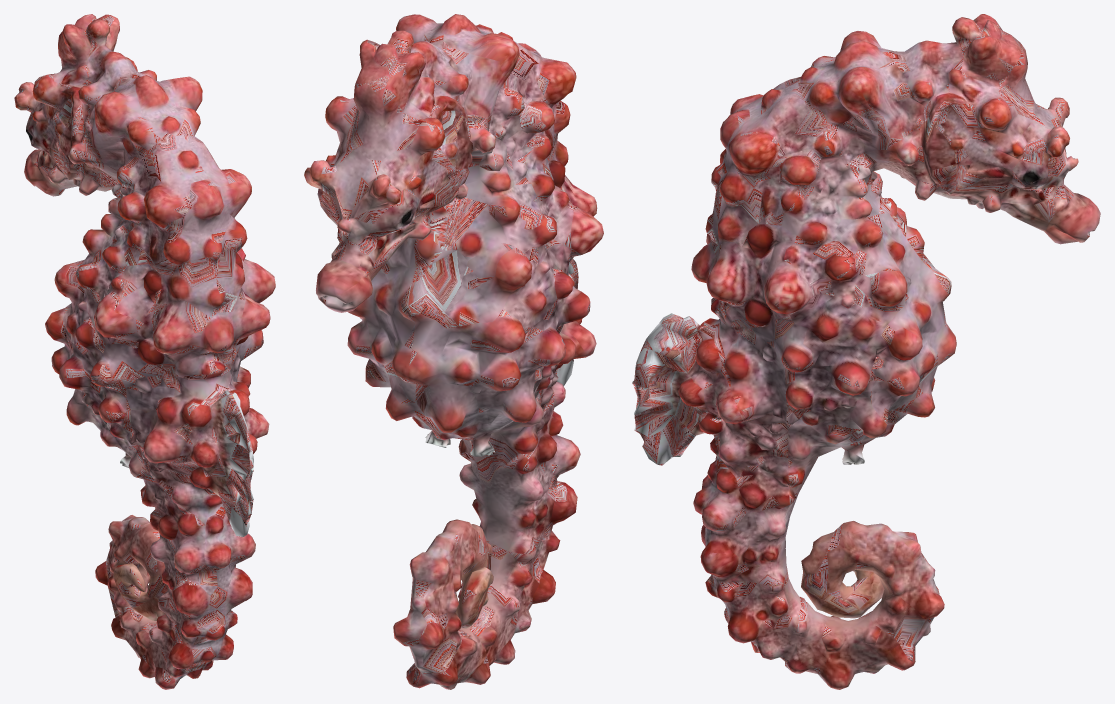
Rendered from dwergzeepaardje.glb.
The picture shows the model from 3 angles, left to right: view 1: azimuth 30°, elevation 25°; view 2: azimuth 150°, elevation 25°; view 3: azimuth 270°, elevation 25°; orthographic projection. The views are drawn at different scales.
Visible parts, largest first — view 1: tripo_node_20396481-86c9-4a43-aa6f-b34d6bff77be; view 2: tripo_node_20396481-86c9-4a43-aa6f-b34d6bff77be; view 3: tripo_node_20396481-86c9-4a43-aa6f-b34d6bff77be.
Boxes of the visible parts, box(x1,y1,x2,y2) form: tripo_node_20396481-86c9-4a43-aa6f-b34d6bff77be: box(14, 14, 275, 689); tripo_node_20396481-86c9-4a43-aa6f-b34d6bff77be: box(304, 14, 603, 689); tripo_node_20396481-86c9-4a43-aa6f-b34d6bff77be: box(632, 14, 1100, 689).
Bounding box in the file's own units: 0.0458 × 0.1498 × 0.096.
1 material, 1 textured.
